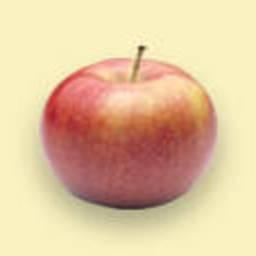apple: (40, 44, 219, 210)
